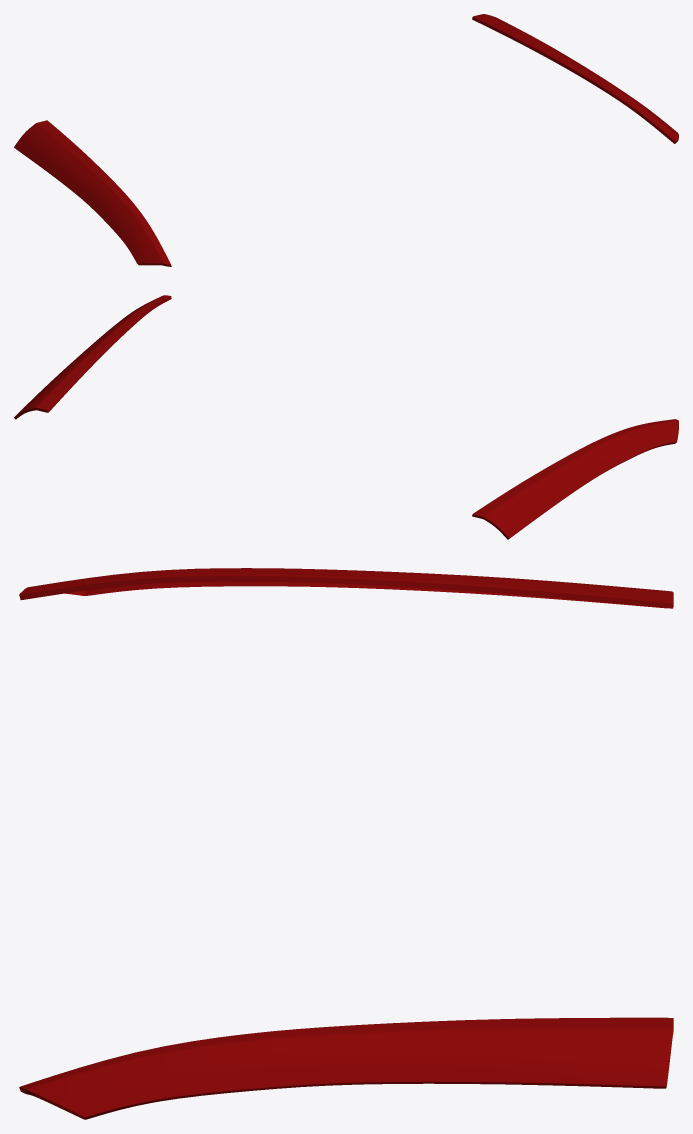
File: c7toppanels.glb
The picture shows the model from 3 angles, top to bottom: view 1: azimuth 30°, elevation 25°; view 2: azimuth 150°, elevation 25°; view 3: azimuth 270°, elevation 25°; orthographic projection. The views are drawn at different scales.
Parts seen in each view (by area): view 1: Roof_1_Crysal_Red_0; view 2: Roof_1_Crysal_Red_0; view 3: Roof_1_Crysal_Red_0.
Part boxes in pixels (x1=…): Roof_1_Crysal_Red_0: x1=14, y1=14, x2=678, y2=266; Roof_1_Crysal_Red_0: x1=14, y1=295, x2=678, y2=539; Roof_1_Crysal_Red_0: x1=19, y1=568, x2=673, y2=1119.
Size of the model in its own units: 1.24 by 0.0622 by 0.6524.
